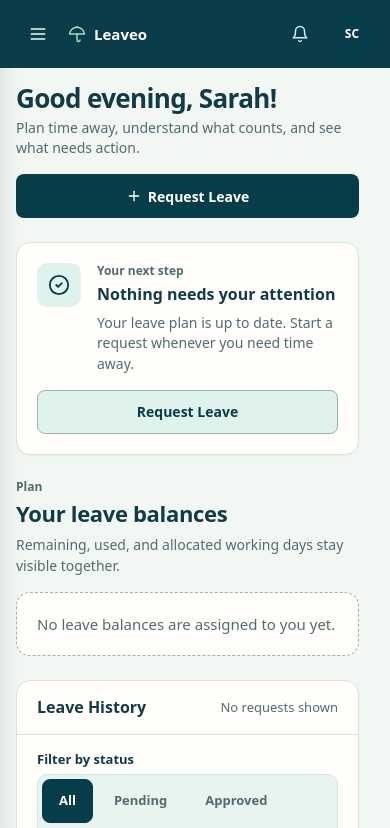
it: OrgShell › [P1] places the mobile language control inside the user menu
What coordinates should you click on to do the following:
click the button with test id "user-menu-trigger"
I would click on:
 (352, 34)
Its box is [330,12,374,56].
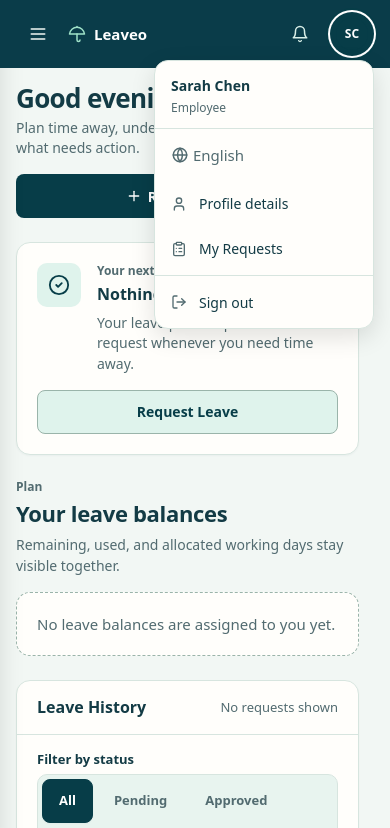
Now the button with test id "mobile-language-switcher" is shown, box [163,133,365,177]
